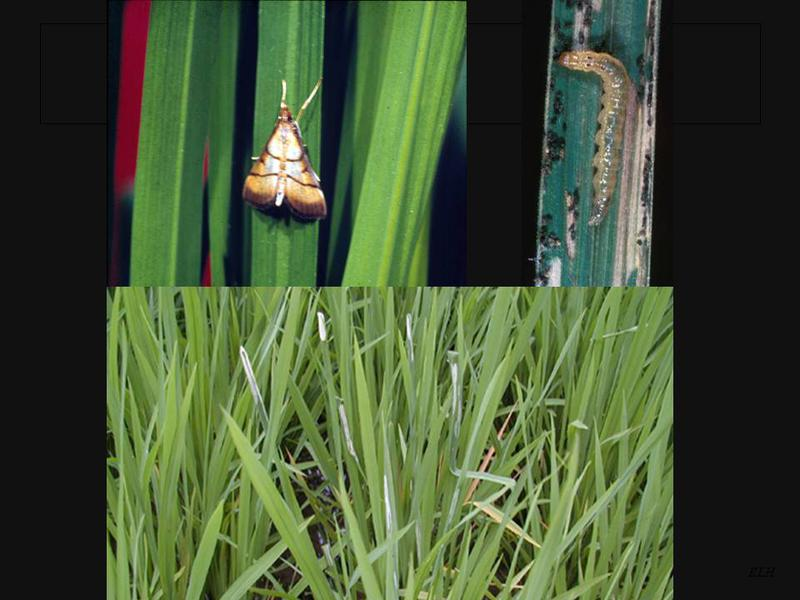Leaf_folder: (554, 37, 638, 234), (228, 100, 335, 244)
